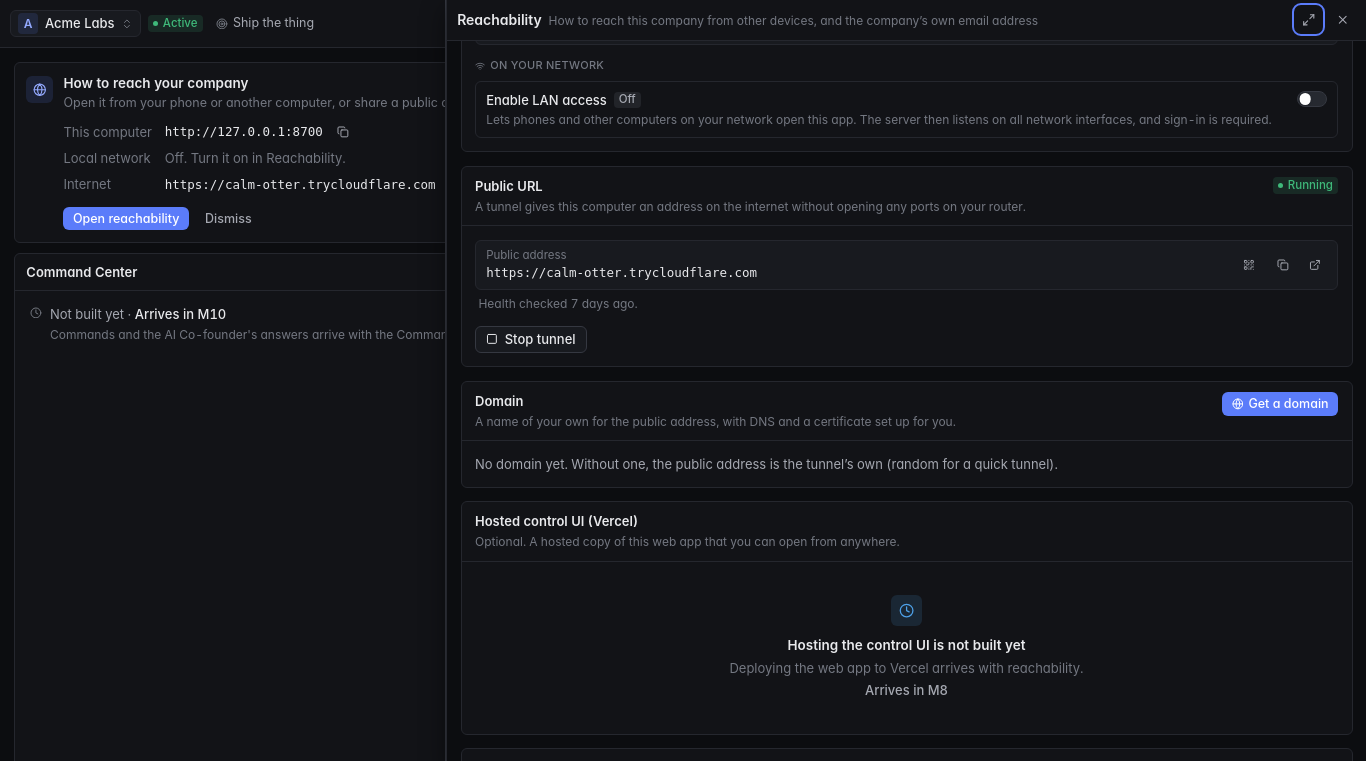
Test: domain wizard › offers three clearly labelled paths
(page scrolled)
Click the button "Get a domain" at (1280, 404), box [1222,392,1338,416]
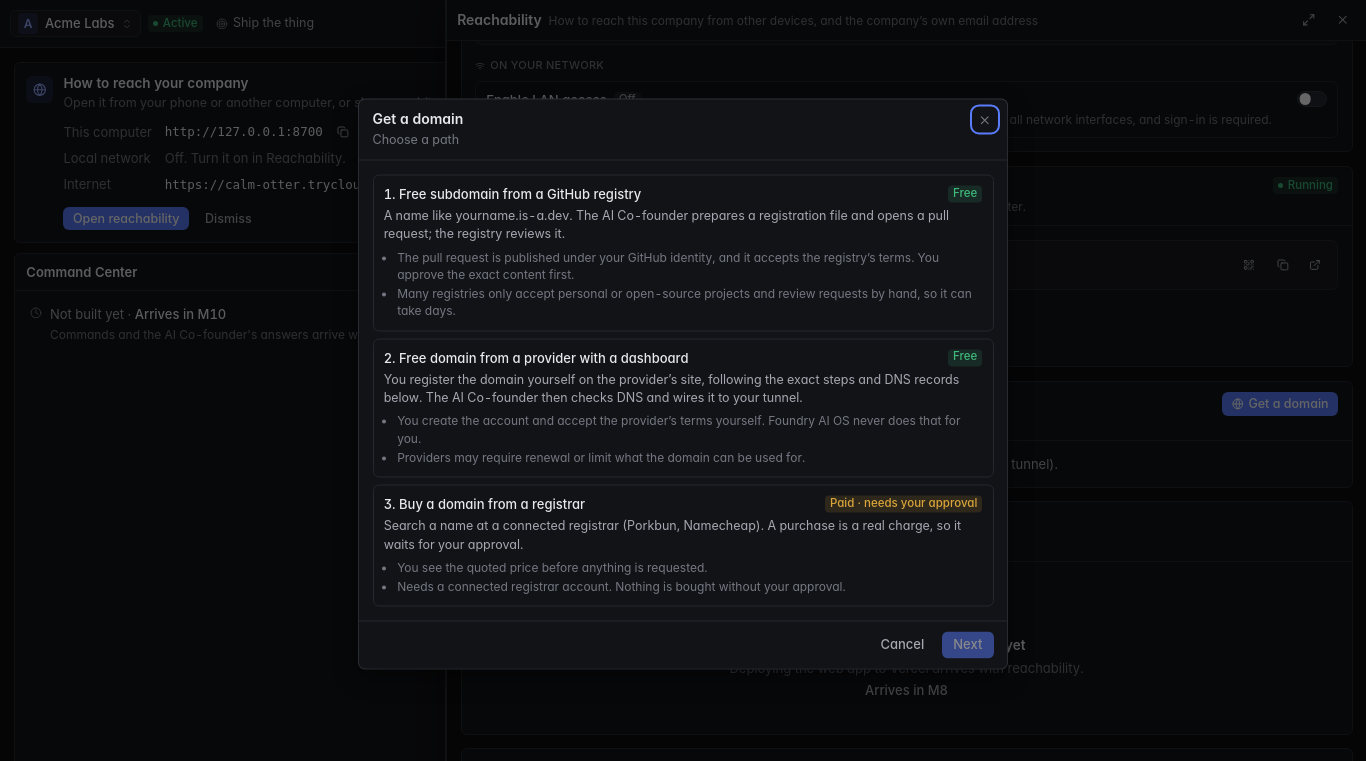
Check: the list item "published under your GitHub identity" is shown, box [397,250,939,282]
Check: the text "Paid · needs your approval" is shown, box [825,496,982,512]
Check: the button "Next" is disabled, box [942,631,994,658]
